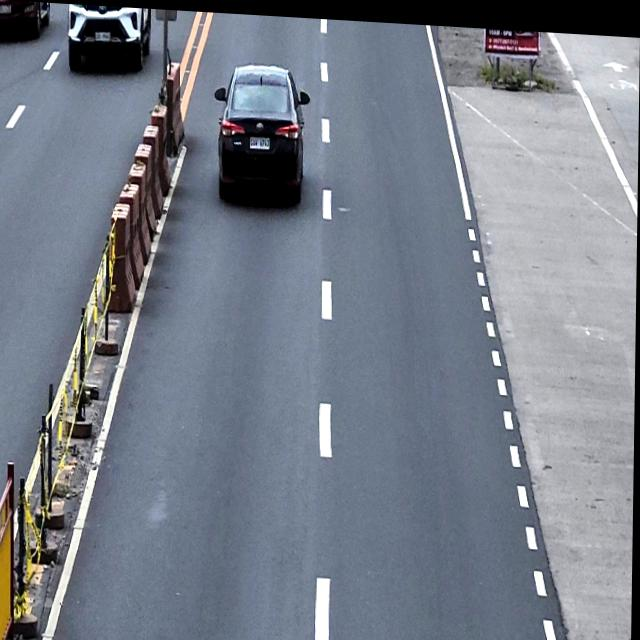Car: (213, 58, 311, 201), (66, 3, 151, 73), (0, 0, 50, 45)
License-Plate: (249, 131, 271, 148), (95, 30, 111, 41), (0, 5, 12, 16)
